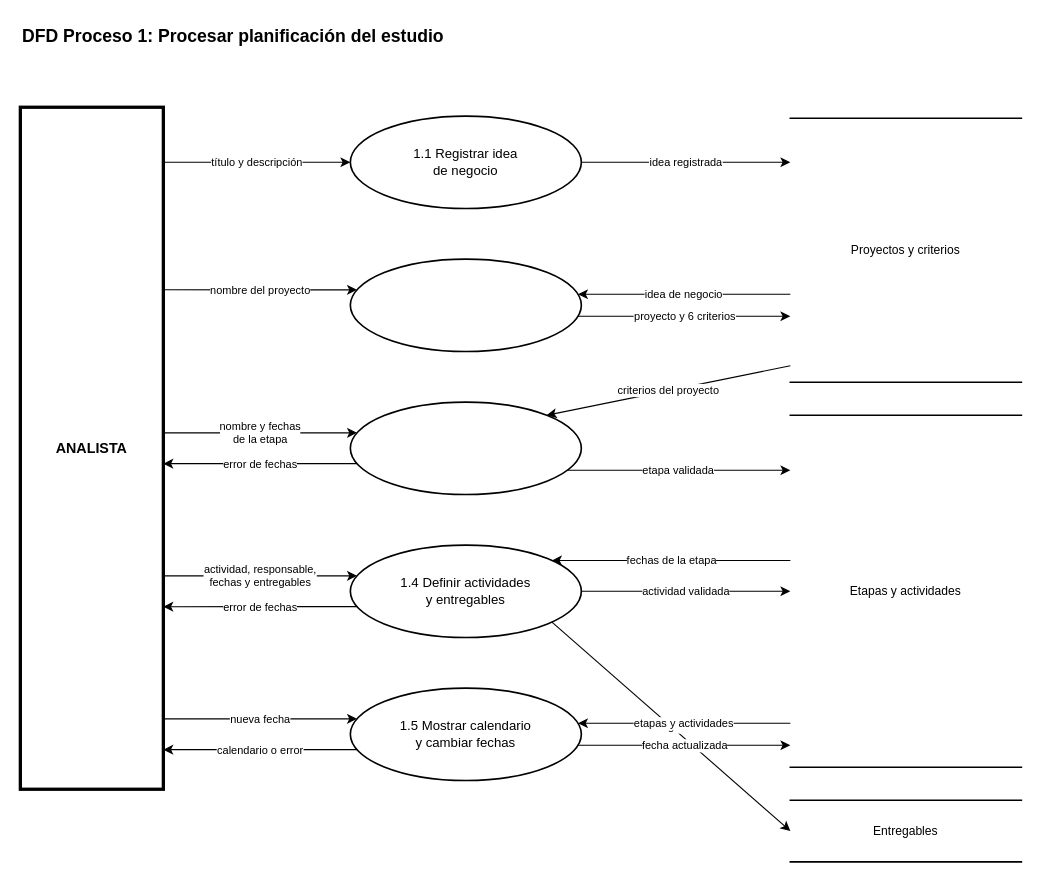
The diagram is 1042 pixels wide and 881 high, and some of its shapes have lost their labels. Here are the shapes that lost their labels. From the top down, the centre of each, then its label:
the point at 465,305: 1.2 Crear proyecto y asignar criterios
the point at 465,448: 1.3 Definir etapas por criterio
